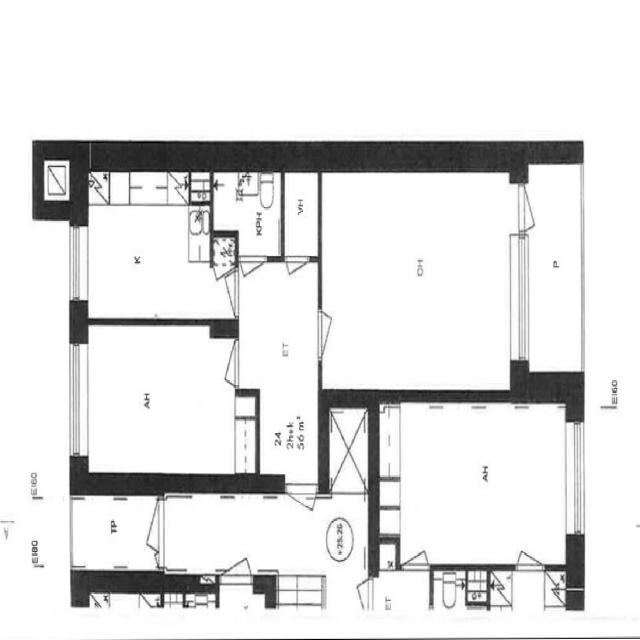door: (142, 489, 170, 568), (509, 178, 540, 240), (215, 551, 258, 595), (283, 479, 318, 519), (221, 332, 242, 392), (399, 542, 432, 578), (511, 545, 547, 577), (314, 304, 332, 366), (238, 252, 271, 284), (221, 265, 241, 317), (352, 574, 378, 611), (283, 255, 314, 282)
window: (504, 209, 533, 372), (65, 335, 92, 470), (562, 414, 589, 546), (65, 215, 91, 312), (64, 492, 80, 573)
zone: (318, 159, 518, 398), (377, 396, 572, 570), (80, 319, 253, 482), (82, 160, 214, 324), (247, 254, 321, 478), (213, 164, 284, 260), (282, 164, 321, 262)
